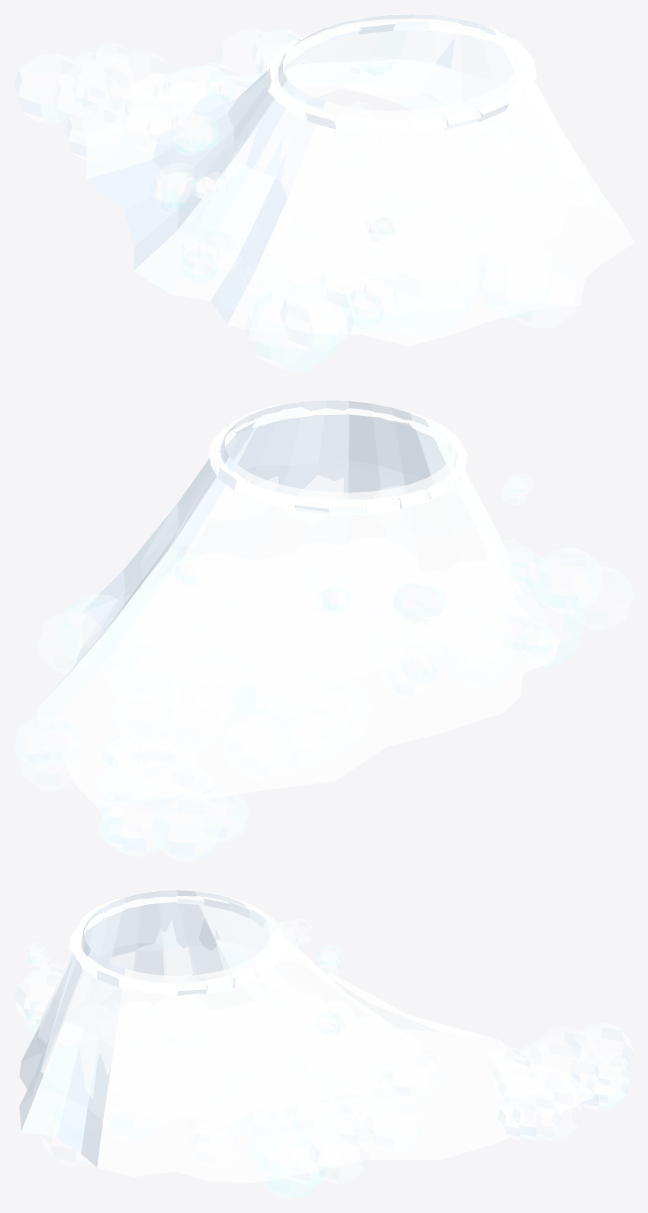
Rendered from queen_ismay_gown.glb.
3 views of the same model, one above another, from view 1: azimuth 30°, elevation 25°; view 2: azimuth 150°, elevation 25°; view 3: azimuth 270°, elevation 25° (orthographic). The views are drawn at different scales.
Parts seen in each view (by area): view 1: queen_ismay_gown; view 2: queen_ismay_gown; view 3: queen_ismay_gown.
Part boxes in pixels (<box>): queen_ismay_gown: <box>14,14,633,371</box>; queen_ismay_gown: <box>14,400,633,861</box>; queen_ismay_gown: <box>14,890,633,1198</box>.
Bounding box in the file's own units: 1.58 × 0.8474 × 2.27.
